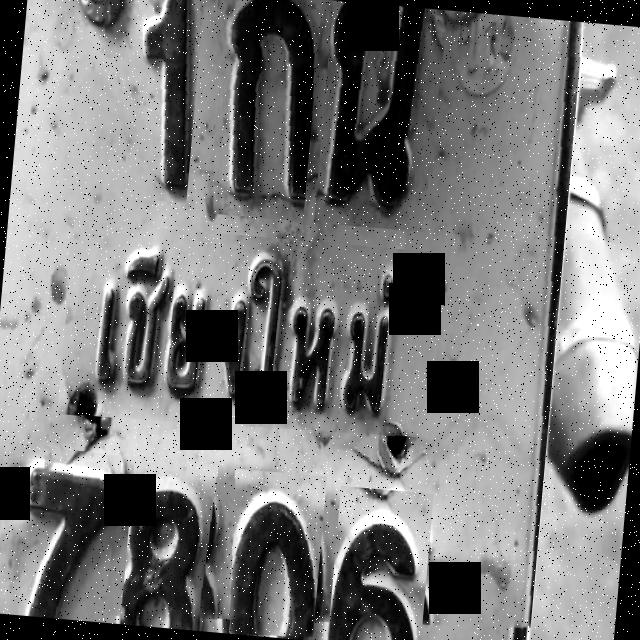letters: (314, 0, 448, 232), (198, 0, 322, 221), (86, 0, 204, 203), (0, 441, 122, 622), (220, 468, 326, 640), (120, 455, 218, 631), (327, 485, 433, 640)
license-plate: (0, 0, 578, 634)
province: (57, 220, 444, 446)
